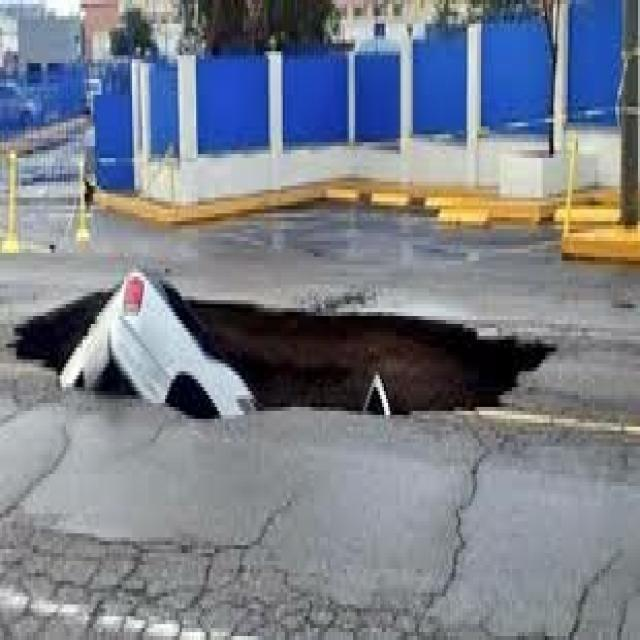pothole: (11, 265, 589, 522)
